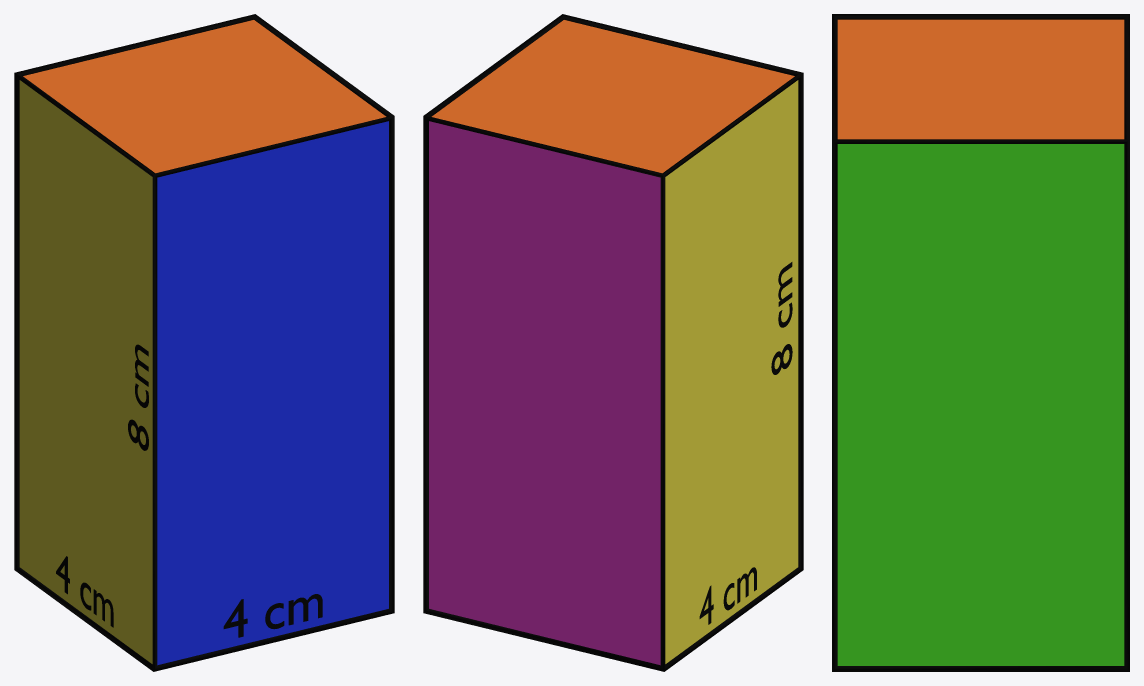
The model's file is prisma_baseCuadrada1.glb.
3 renders of one model, left to right at view 1: azimuth 30°, elevation 25°; view 2: azimuth 150°, elevation 25°; view 3: azimuth 270°, elevation 25°, orthographic. The views are drawn at different scales.
Parts seen in each view (by area): view 1: prisma_baseCuadrada1, Texto.003, Texto.005, Texto.004; view 2: prisma_baseCuadrada1, Texto.005, Texto.004; view 3: prisma_baseCuadrada1.
Part boxes in pixels (bbox=[...]): prisma_baseCuadrada1: bbox=[14, 14, 394, 671]; Texto.003: bbox=[223, 594, 322, 637]; Texto.005: bbox=[128, 344, 148, 450]; Texto.004: bbox=[56, 556, 113, 627]; prisma_baseCuadrada1: bbox=[423, 14, 803, 671]; Texto.005: bbox=[771, 262, 792, 374]; Texto.004: bbox=[699, 567, 756, 624]; prisma_baseCuadrada1: bbox=[832, 14, 1129, 671].
Bounding box in the file's own units: 0.0412 × 0.0812 × 0.0412.
